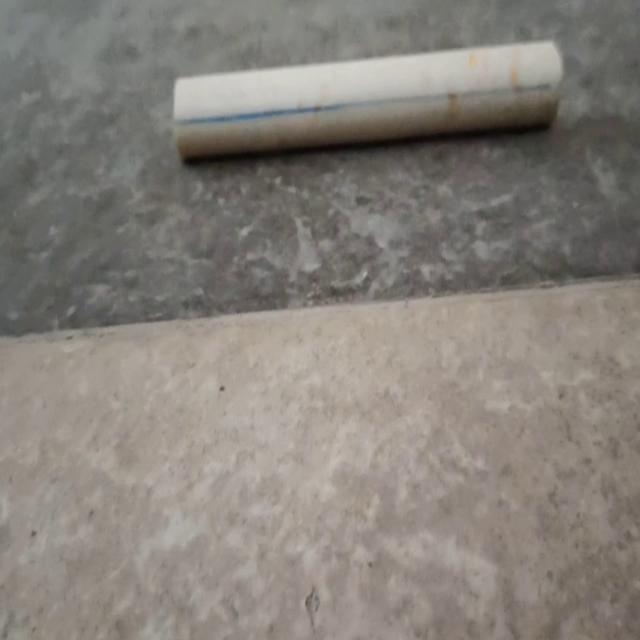Cube: (171, 36, 565, 161)
